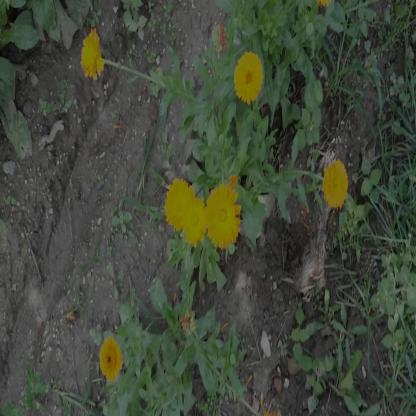marigold: (204, 185, 237, 248), (164, 177, 191, 235), (236, 53, 262, 102), (81, 31, 106, 79), (325, 160, 349, 206), (99, 337, 122, 381), (187, 199, 207, 241)
